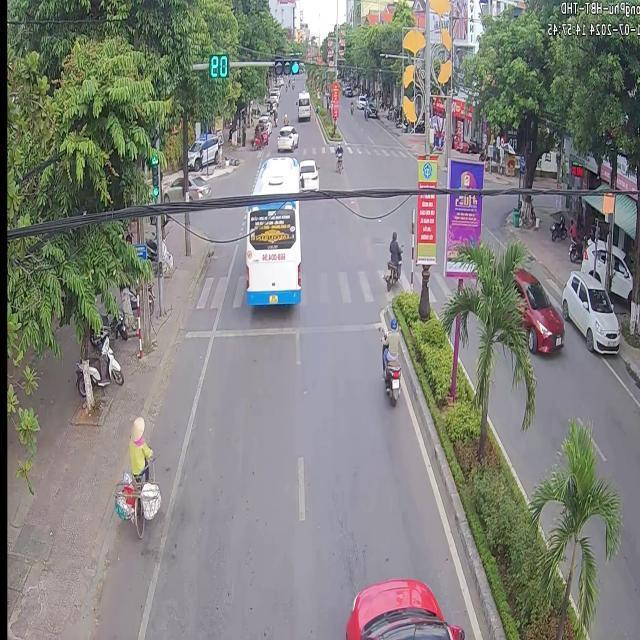car: (344, 578, 463, 638), (244, 198, 299, 304), (513, 267, 563, 351), (250, 154, 298, 196), (298, 158, 317, 188), (276, 122, 297, 149)
green_light: (274, 59, 302, 78), (206, 53, 229, 76), (150, 156, 160, 201)
motobike: (380, 316, 399, 405), (383, 229, 400, 289)
stop_line: (212, 320, 377, 338), (187, 329, 210, 336)
